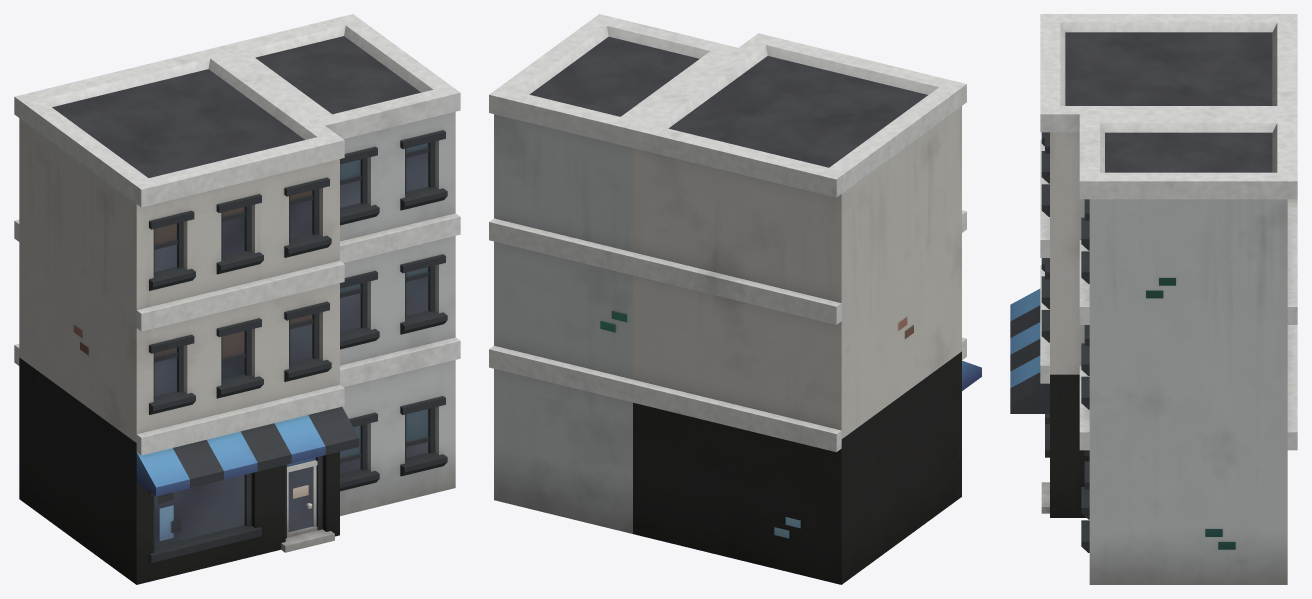
The model's file is building_G.glb.
The picture shows the model from 3 angles, left to right: view 1: azimuth 30°, elevation 25°; view 2: azimuth 150°, elevation 25°; view 3: azimuth 270°, elevation 25°; orthographic projection. The views are drawn at different scales.
Visible parts, largest first — view 1: building_G_withoutBase; view 2: building_G_withoutBase; view 3: building_G_withoutBase.
Part boxes in pixels (bbox=[...]): building_G_withoutBase: bbox=[14, 14, 460, 584]; building_G_withoutBase: bbox=[489, 14, 981, 584]; building_G_withoutBase: bbox=[1010, 14, 1297, 584].
Size of the model in its own units: 2.01 by 2.25 by 1.45.
Materials: 2 (2 with a texture image).
